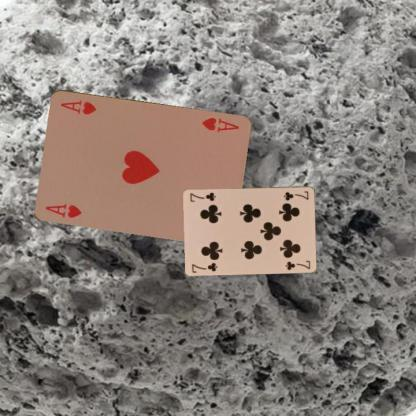7c: (189, 260, 219, 274), (281, 188, 310, 202)
Ah: (198, 115, 240, 134), (42, 202, 83, 220)
